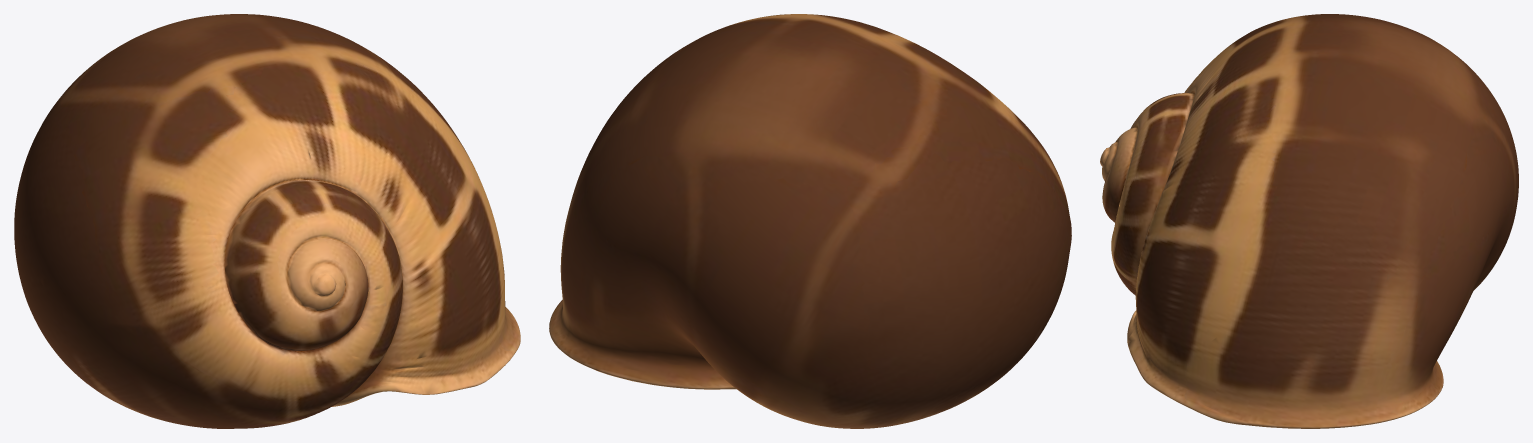
Rendered from apple.glb.
The picture shows the model from 3 angles, left to right: view 1: azimuth 30°, elevation 25°; view 2: azimuth 150°, elevation 25°; view 3: azimuth 270°, elevation 25°; orthographic projection. The views are drawn at different scales.
Parts seen in each view (by area): view 1: node_0; view 2: node_0; view 3: node_0.
Boxes of the visible parts, x1,y1,x2,y2 form: node_0: [14, 14, 520, 428]; node_0: [549, 14, 1071, 428]; node_0: [1100, 14, 1518, 428].
Bounding box in the file's own units: 1.03 × 0.7491 × 0.9153.
Materials: 1 (1 with a texture image).
